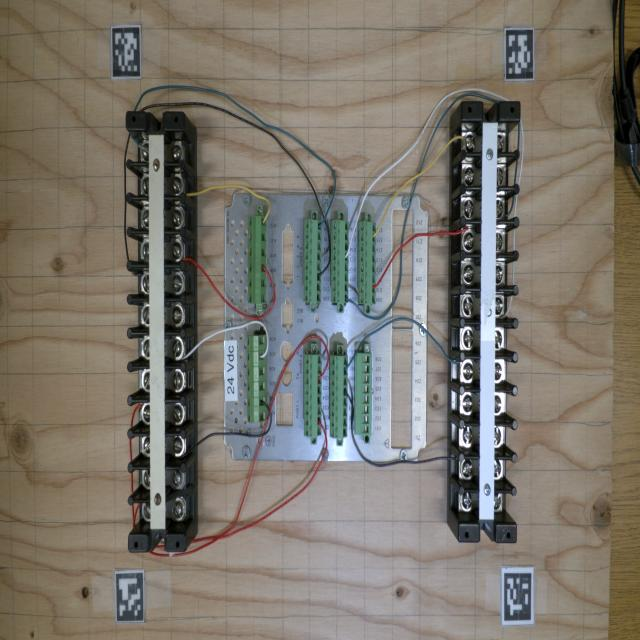Flathead_Block: (127, 112, 186, 551)
Phillips_Block: (459, 102, 520, 542)
Terminal_1: (247, 335, 267, 423), (248, 216, 267, 304)
Terminal_2: (303, 219, 322, 303), (331, 220, 349, 303), (358, 221, 376, 304), (304, 355, 322, 438), (330, 356, 348, 439)
